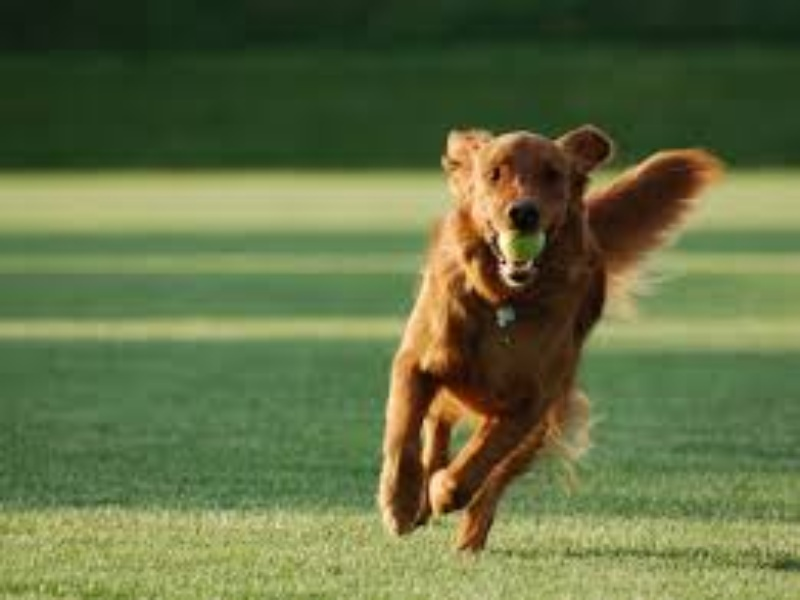dog: (375, 127, 724, 562)
